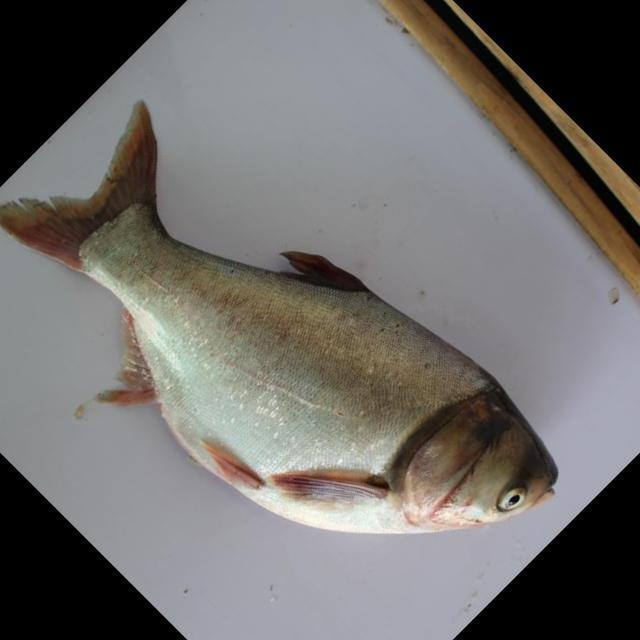SilverCarp: (7, 119, 574, 528)
